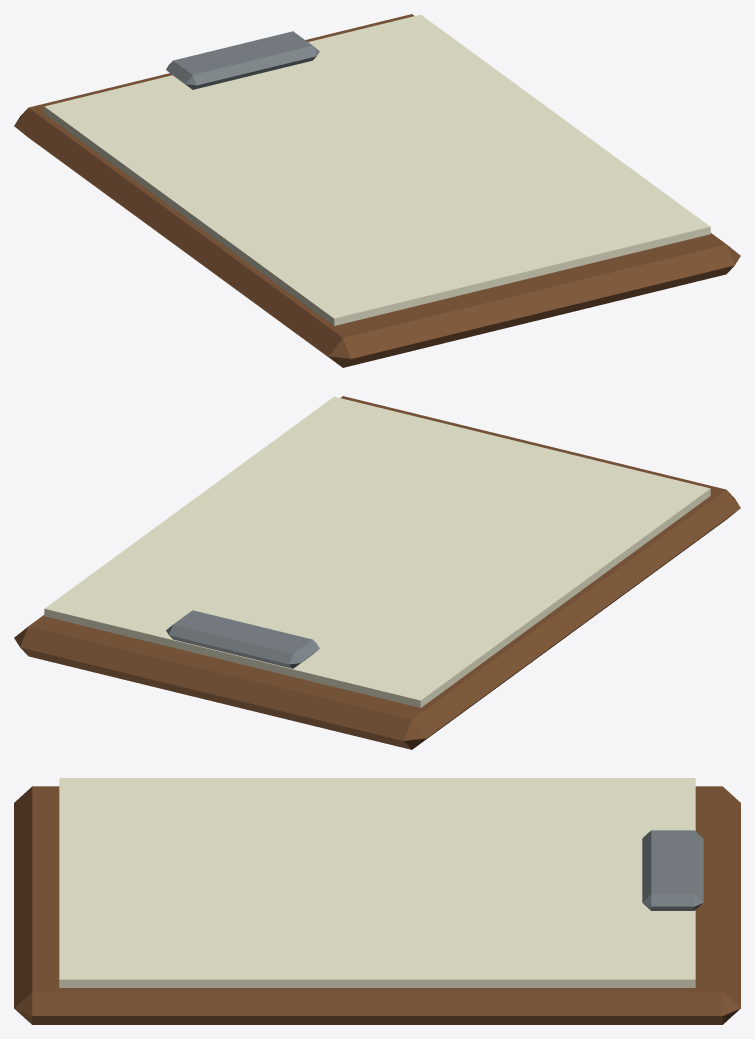
The model's file is Clipboard.fbx.
3 renders of one model, top to bottom at view 1: azimuth 30°, elevation 25°; view 2: azimuth 150°, elevation 25°; view 3: azimuth 270°, elevation 25°, orthographic. The views are drawn at different scales.
Visible parts, largest first — view 1: Clipboard; view 2: Clipboard; view 3: Clipboard.
Part boxes in pixels (x1,y1,x2,y2): Clipboard: (14,14,740,367); Clipboard: (14,396,740,749); Clipboard: (14,778,740,1024).
Bounding box in the file's own units: 23 × 2.9 × 32.
Materials: 1 (1 with a texture image).
